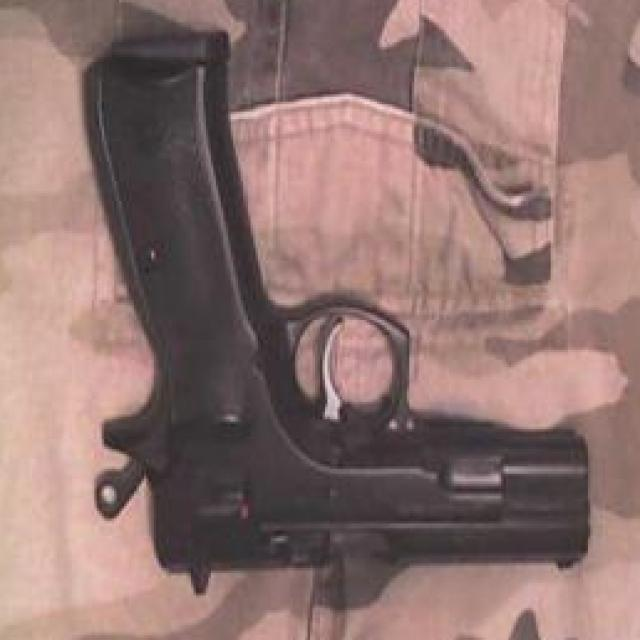pistol: (77, 41, 594, 595)
